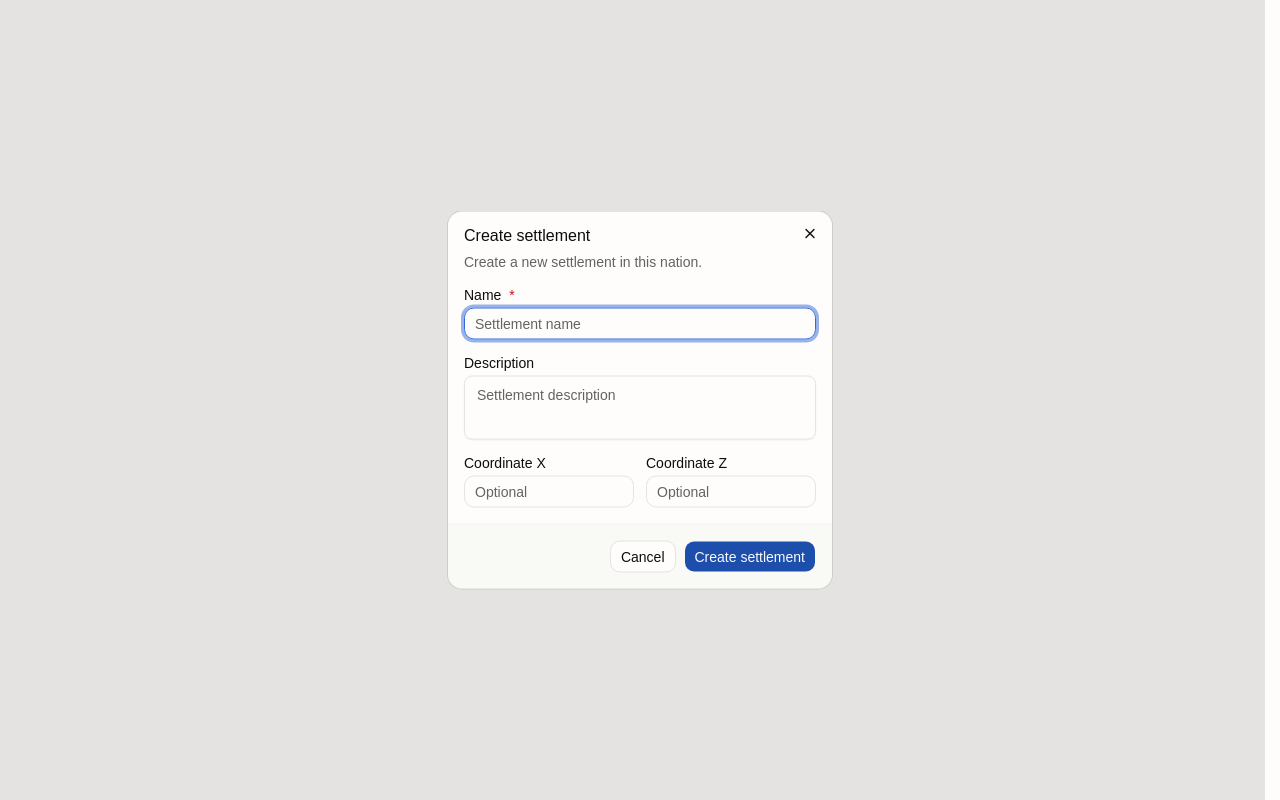
Test: CreateSettlementDialog › disables submit button while mutation is pending
Type "New Settlement" into the field with placeholder "Settlement name" at {"x": 640, "y": 324}, box x1=464 y1=308 x2=816 y2=340
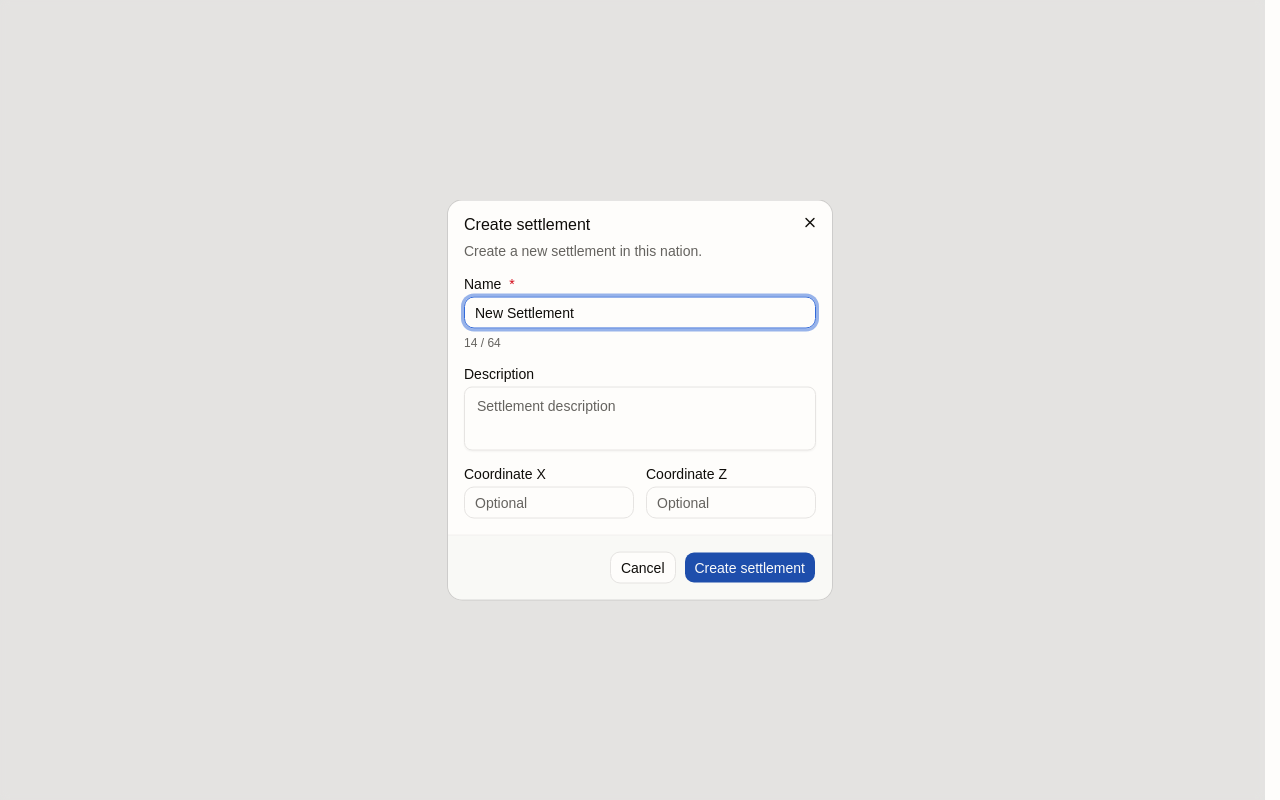
Click the button "Create settlement" at {"x": 750, "y": 568}, box x1=684 y1=552 x2=816 y2=584
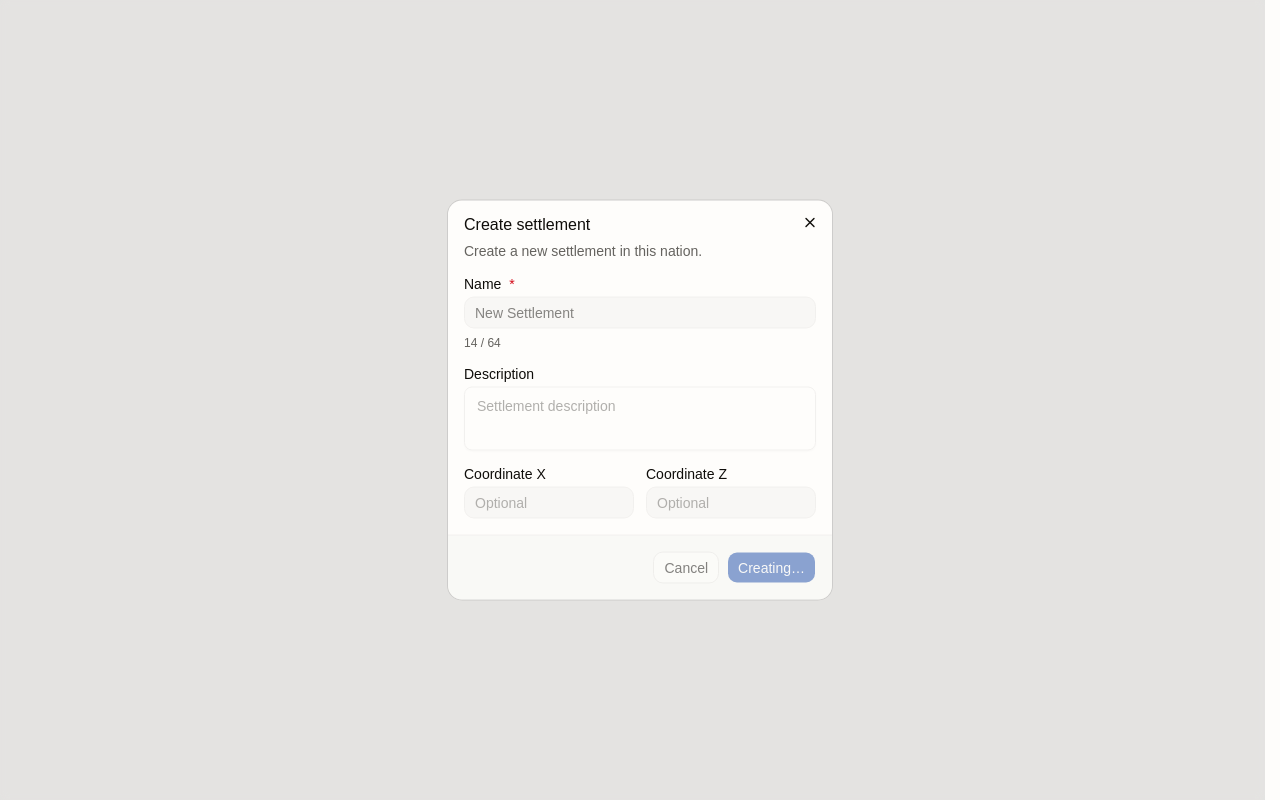
expect the button named "Create settlement" is disabled: met, box x1=727 y1=552 x2=816 y2=584
expect the button "Creating…" is disabled: met, box x1=727 y1=552 x2=816 y2=584
